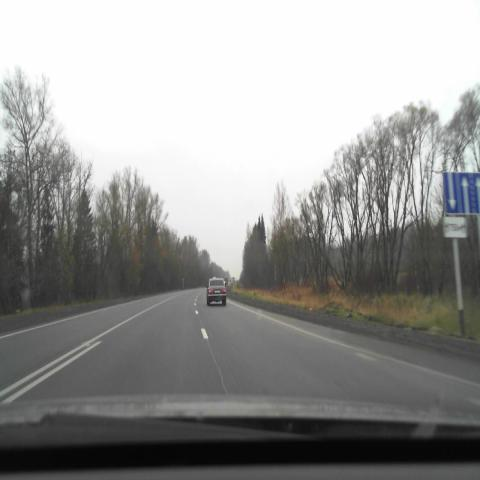5_15_7: (442, 172, 480, 214)
